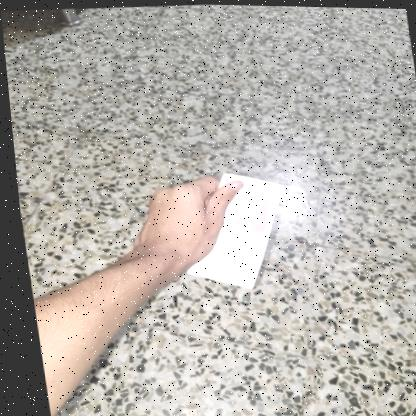ten-back-vef: (167, 168, 294, 294)
